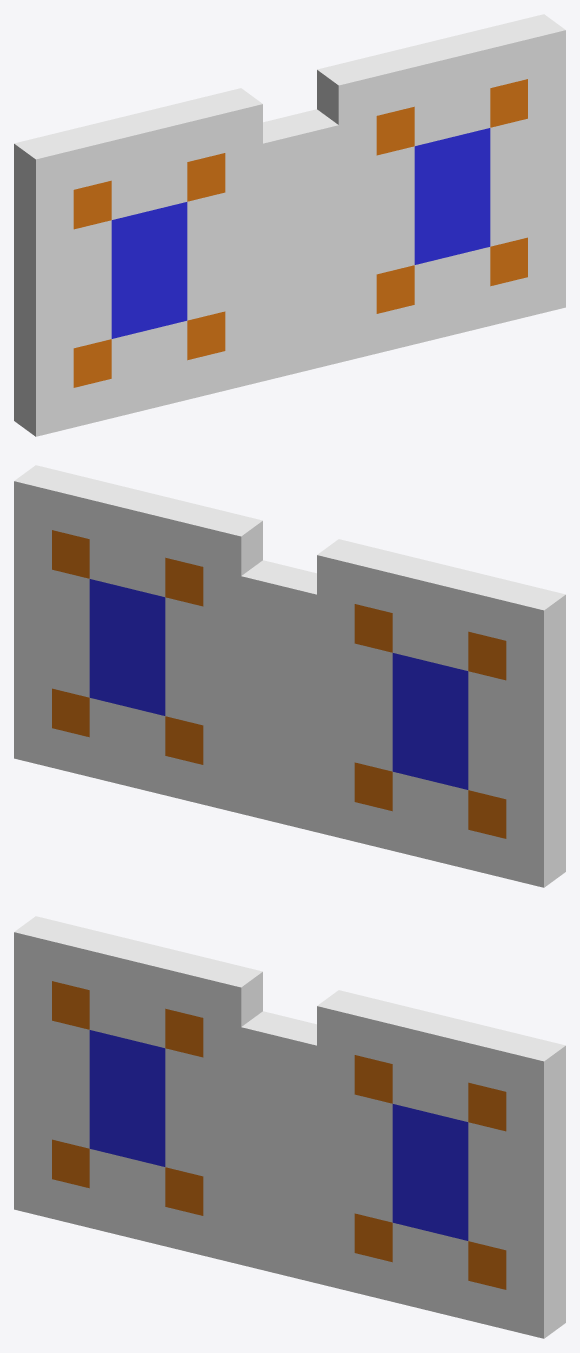
3 views of the same model, one above another, from view 1: azimuth 30°, elevation 25°; view 2: azimuth 150°, elevation 25°; view 3: azimuth 330°, elevation 25° (orthographic).
Visible parts, largest first — view 1: eye-shapes063, eye-shapes028, eye-shapes027; view 2: eye-shapes063, eye-shapes028, eye-shapes027; view 3: eye-shapes063, eye-shapes028, eye-shapes027.
Boxes of the visible parts, <box> form: eye-shapes063: <box>14,14,565,436</box>; eye-shapes028: <box>111,128,490,338</box>; eye-shapes027: <box>73,79,527,387</box>; eye-shapes063: <box>14,465,565,887</box>; eye-shapes028: <box>89,579,468,789</box>; eye-shapes027: <box>52,530,506,838</box>; eye-shapes063: <box>14,916,565,1338</box>; eye-shapes028: <box>89,1030,468,1240</box>; eye-shapes027: <box>52,981,506,1289</box>.
Size of the model in its own units: 140 by 70 by 10.
3 materials, 3 textured.
